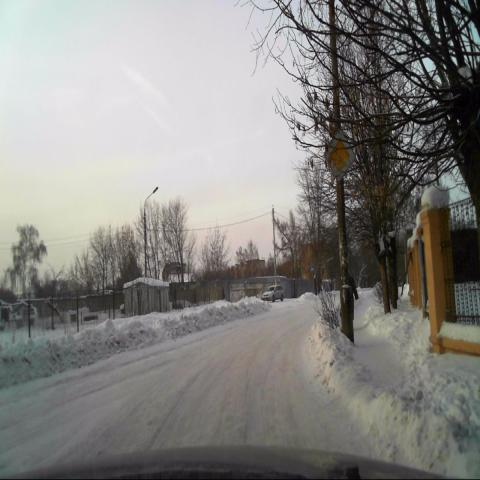2_1: (324, 129, 356, 182)
